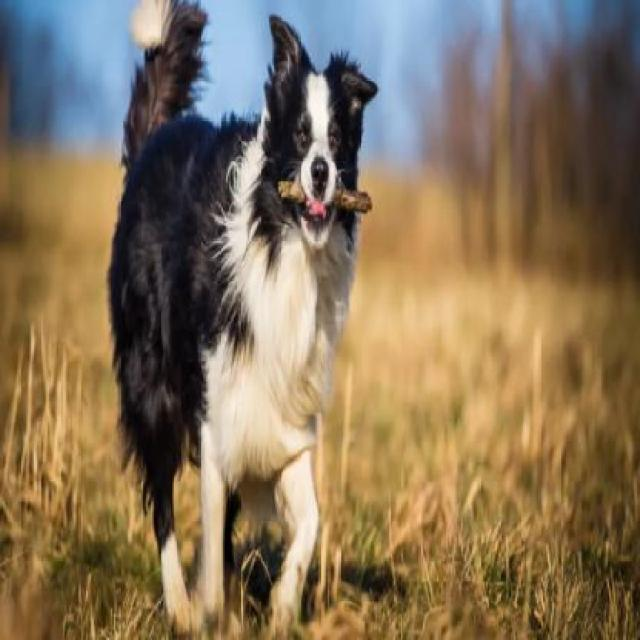animals: (105, 14, 377, 600)
